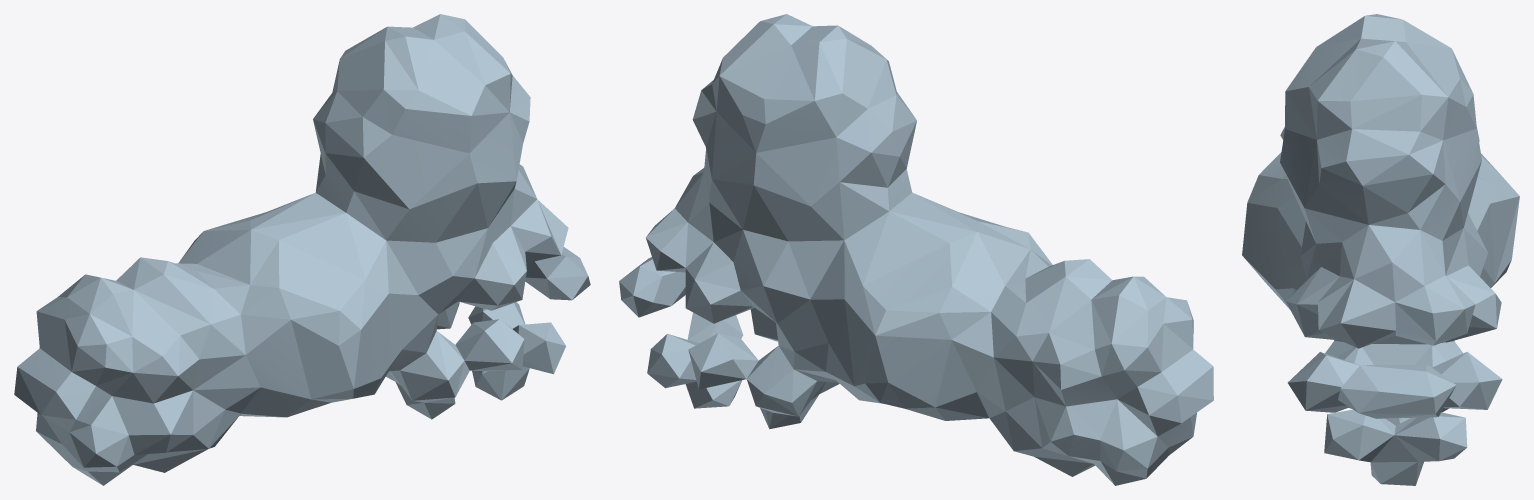
Rendered from stylize_cloud_3.fbx.
The picture shows the model from 3 angles, left to right: view 1: azimuth 30°, elevation 25°; view 2: azimuth 150°, elevation 25°; view 3: azimuth 270°, elevation 25°; orthographic projection. The views are drawn at different scales.
Visible parts, largest first — view 1: cloud_83; view 2: cloud_83; view 3: cloud_83.
Part boxes in pixels (bbox=[...]): cloud_83: bbox=[14, 14, 590, 485]; cloud_83: bbox=[619, 14, 1213, 485]; cloud_83: bbox=[1242, 14, 1519, 485].
Size of the model in its own units: 584 by 399 by 243.
